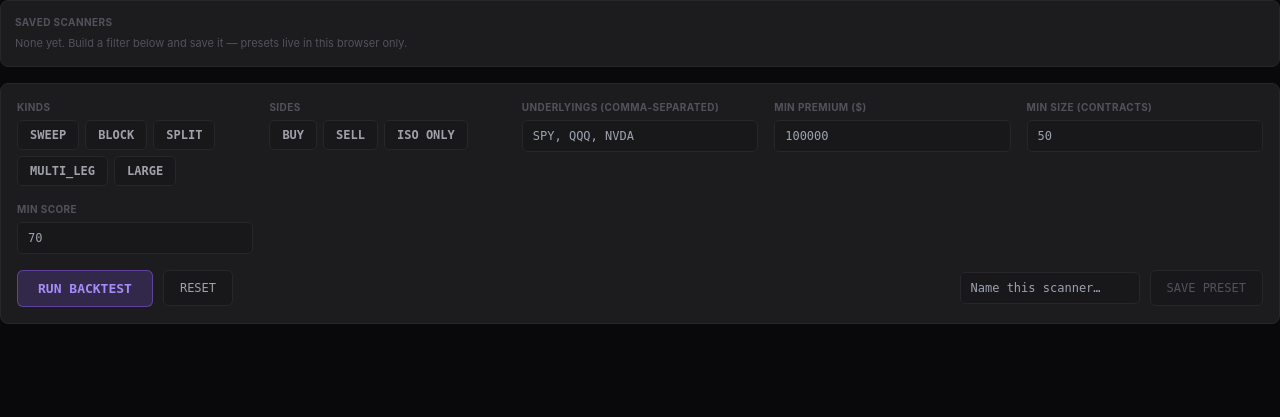
scanner backtest › an unreachable backend shows the failure rather than an empty table
The width and height of the screenshot is (1280, 417).
Click the button "RUN BACKTEST" at [85, 288], box [17,270,153,307]
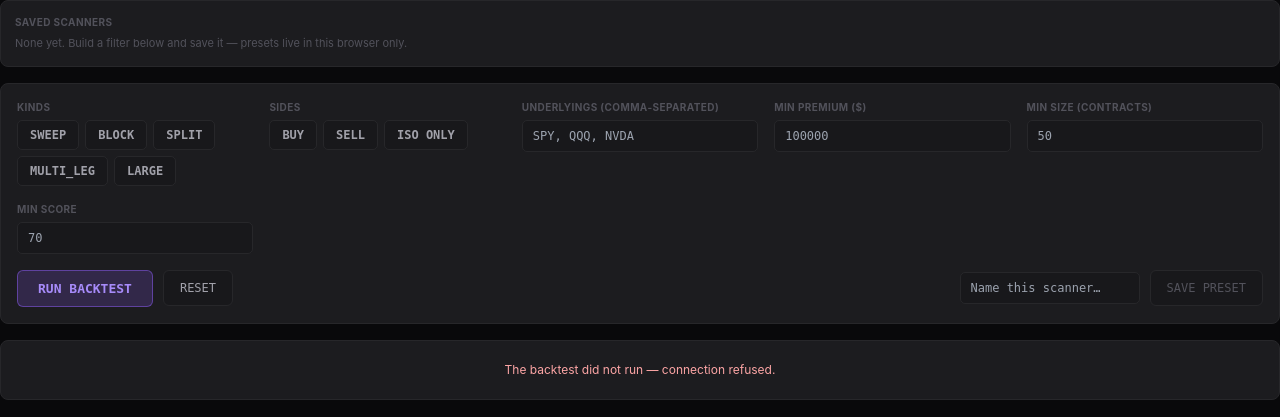
expect the text "The backtest did not run — connection refused." is shown: met, box [0,340,1279,400]
